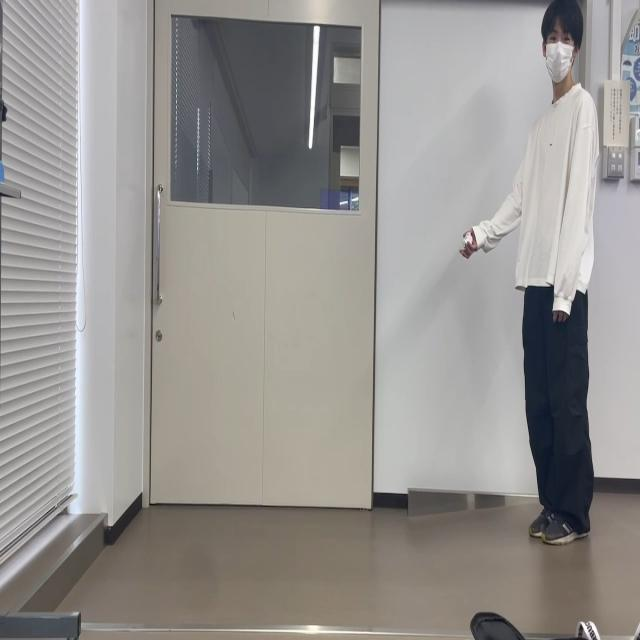paper: (460, 225, 479, 259)
